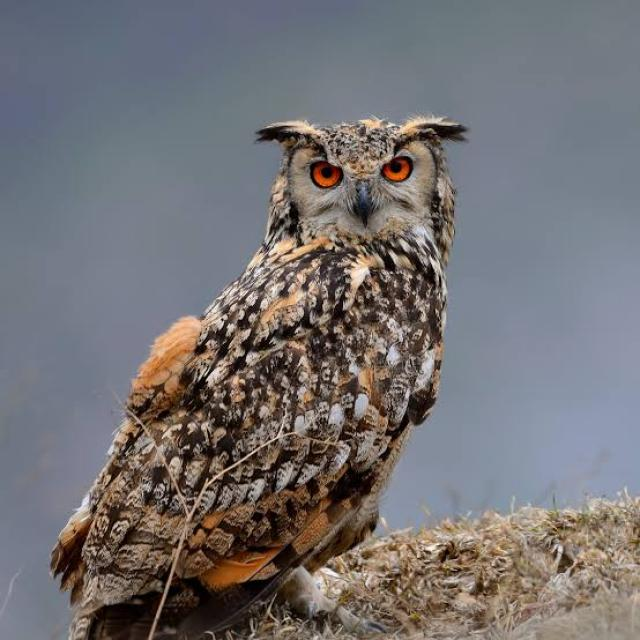eurasianeagle: (34, 106, 539, 620)
